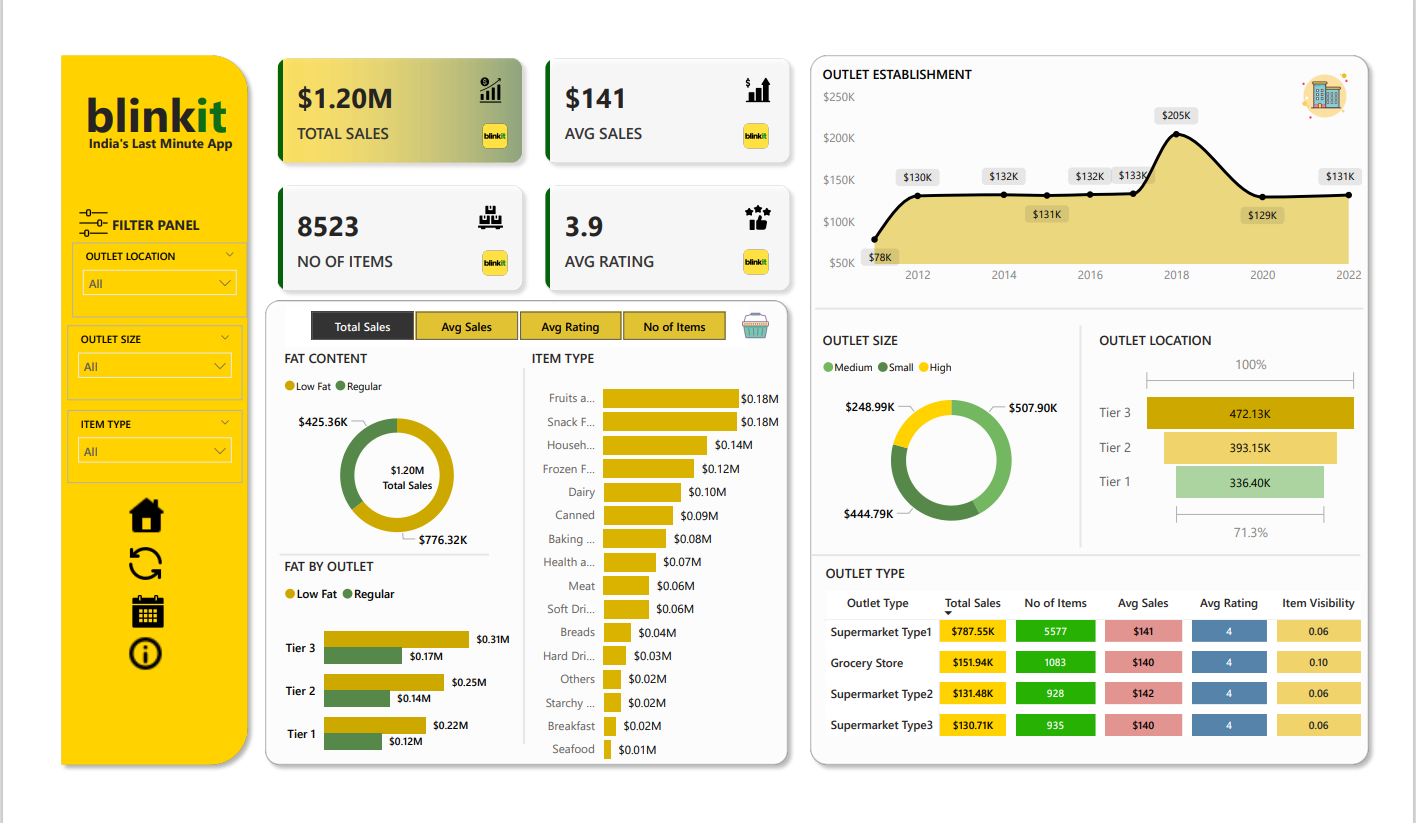

The dashboard page shown, as its layout file describes it:
{"tool":"powerbi","page":{"name":"Page 1","canvas":[1400,800],"ordinal":0},"visuals":[{"type":"shape","box":[27.3,27.3,209.1,745.5],"z":0},{"type":"textbox","box":[46.2,57.7,175,80.8],"z":1000},{"type":"textbox","box":[48.3,112.1,179.3,28.7],"z":2000},{"type":"cardVisual","fields":{"Data":["BlinkIT Grocery Data.Total Sales","BlinkIT Grocery Data.Average Sales","BlinkIT Grocery Data.No.Of Items","BlinkIT Grocery Data.Average Rating"]},"box":[241.4,22.4,560.3,272.4],"z":3000},{"type":"shape","box":[236.5,279.4,554,493.7],"z":4000},{"type":"slicer","fields":{"Values":["Metrics.Metrics"]},"box":[253,300.2,464.8,49],"z":5000},{"type":"donutChart","title":"FAT CONTENT","fields":{"Y":["BlinkIT Grocery Data.Total Sales"],"Category":["BlinkIT Grocery Data.Item Fat Content"]},"box":[261.4,377.6,241.5,168.8],"z":6000},{"type":"cardVisual","fields":{"Data":["BlinkIT Grocery Data.Total Sales"]},"box":[325,444.8,114.4,58.1],"z":7000},{"type":"clusteredBarChart","title":"FAT BY OUTLET","fields":{"Y":["BlinkIT Grocery Data.Total Sales"],"Category":["BlinkIT Grocery Data.Outlet Location Type"],"Series":["BlinkIT Grocery Data.Item Fat Content"]},"box":[260.3,550.8,241.3,222.2],"z":8000},{"type":"shape","box":[260,532,214.7,33.3],"z":9000},{"type":"shape","box":[502.7,357.3,16,385.3],"z":10000},{"type":"barChart","title":"ITEM TYPE","fields":{"Y":["BlinkIT Grocery Data.Total Sales"],"Category":["BlinkIT Grocery Data.Item Type"]},"box":[513.8,388.5,263.2,384.9],"z":11000},{"type":"shape","box":[796.8,27,590.5,746],"z":12000},{"type":"lineChart","title":"OUTLET ESTABLISHMENT","fields":{"Y":["BlinkIT Grocery Data.Total Sales"],"Category":["BlinkIT Grocery Data.Outlet Establishment Year"]},"box":[812.7,46,563.5,233.3],"z":13000},{"type":"shape","box":[809.5,279.4,563.5,33.3],"z":14000},{"type":"donutChart","title":"OUTLET SIZE","fields":{"Y":["BlinkIT Grocery Data.Total Sales"],"Category":["BlinkIT Grocery Data.Outlet Size"]},"box":[812.5,318.8,273.8,220],"z":15000},{"type":"shape","box":[1073,312.7,19,228.6],"z":16000},{"type":"funnel","title":"OUTLET LOCATION","fields":{"Y":["Sum(BlinkIT Grocery Data.Sales)"],"Category":["BlinkIT Grocery Data.Outlet Location Type"]},"box":[1096.8,319,276.2,220.6],"z":17000},{"type":"shape","box":[806.2,540,563.8,17.5],"z":18000},{"type":"pivotTable","title":"OUTLET TYPE","fields":{"Rows":["BlinkIT Grocery Data.Outlet Type"],"Values":["BlinkIT Grocery Data.Total Sales","BlinkIT Grocery Data.No of Items","BlinkIT Grocery Data.Avg Sales","BlinkIT Grocery Data.Avg Rating","Avg(BlinkIT Grocery Data.Item Visibility)"]},"box":[816.2,557.5,560,242.5],"z":19000},{"type":"slicer","fields":{"Values":["BlinkIT Grocery Data.Outlet Location Type"]},"box":[46.7,228.3,180,76.7],"z":20000},{"type":"slicer","fields":{"Values":["BlinkIT Grocery Data.Outlet Size"]},"box":[41.7,313.3,180,76.7],"z":21000},{"type":"slicer","fields":{"Values":["BlinkIT Grocery Data.Item Type"]},"box":[41.7,400,180,75],"z":22000},{"type":"textbox","box":[69.5,194.5,118.1,33],"z":23000},{"type":"image","box":[1296.7,43.3,73.3,68.3],"z":24000},{"type":"image","box":[730,291.7,36.7,43.3],"z":25000},{"type":"image","box":[461.7,228.3,38.3,41.7],"z":26000},{"type":"image","box":[730,228.3,38.3,38.3],"z":27000},{"type":"image","box":[730,98.3,38.3,41.7],"z":28000},{"type":"image","box":[461.7,85,38.3,68.3],"z":29000},{"type":"image","box":[107.7,474.1,48.6,52.1],"z":30000},{"type":"image","box":[100.7,517.5,55.6,43.4],"z":31000},{"type":"image","box":[109.4,564.4,43.4,41.7],"z":32000},{"type":"image","box":[109.4,599.1,48.6,52.1],"z":33000},{"type":"image","box":[48.6,194.5,39.9,33],"z":34000}]}

Visuals, with their boxes in screenshot pixels (x1, y1, x2, y2), scaled from the page's 1400x800 canvas onto the 1416x823 screenshot:
shape: [x1=28, y1=28, x2=239, y2=795]
textbox: [x1=47, y1=59, x2=224, y2=142]
textbox: [x1=49, y1=115, x2=230, y2=145]
cardVisual - BlinkIT Grocery Data.Total Sales x BlinkIT Grocery Data.Average Sales: [x1=244, y1=23, x2=811, y2=303]
shape: [x1=239, y1=287, x2=800, y2=795]
slicer - Metrics.Metrics: [x1=256, y1=309, x2=726, y2=359]
"FAT CONTENT" donutChart: [x1=264, y1=388, x2=509, y2=562]
cardVisual - BlinkIT Grocery Data.Total Sales: [x1=329, y1=458, x2=444, y2=517]
"FAT BY OUTLET" clusteredBarChart: [x1=263, y1=567, x2=507, y2=795]
shape: [x1=263, y1=547, x2=480, y2=582]
shape: [x1=508, y1=368, x2=525, y2=764]
"ITEM TYPE" barChart: [x1=520, y1=400, x2=786, y2=796]
shape: [x1=806, y1=28, x2=1403, y2=795]
"OUTLET ESTABLISHMENT" lineChart: [x1=822, y1=47, x2=1392, y2=287]
shape: [x1=819, y1=287, x2=1389, y2=322]
"OUTLET SIZE" donutChart: [x1=822, y1=328, x2=1099, y2=554]
shape: [x1=1085, y1=322, x2=1104, y2=557]
"OUTLET LOCATION" funnel: [x1=1109, y1=328, x2=1389, y2=555]
shape: [x1=815, y1=556, x2=1386, y2=574]
"OUTLET TYPE" pivotTable: [x1=826, y1=574, x2=1392, y2=822]
slicer - BlinkIT Grocery Data.Outlet Location Type: [x1=47, y1=235, x2=229, y2=314]
slicer - BlinkIT Grocery Data.Outlet Size: [x1=42, y1=322, x2=224, y2=401]
slicer - BlinkIT Grocery Data.Item Type: [x1=42, y1=412, x2=224, y2=489]
textbox: [x1=70, y1=200, x2=190, y2=234]
image: [x1=1312, y1=45, x2=1386, y2=115]
image: [x1=738, y1=300, x2=775, y2=345]
image: [x1=467, y1=235, x2=506, y2=278]
image: [x1=738, y1=235, x2=777, y2=274]
image: [x1=738, y1=101, x2=777, y2=144]
image: [x1=467, y1=87, x2=506, y2=158]
image: [x1=109, y1=488, x2=158, y2=541]
image: [x1=102, y1=532, x2=158, y2=577]
image: [x1=111, y1=581, x2=155, y2=624]
image: [x1=111, y1=616, x2=160, y2=670]
image: [x1=49, y1=200, x2=90, y2=234]
